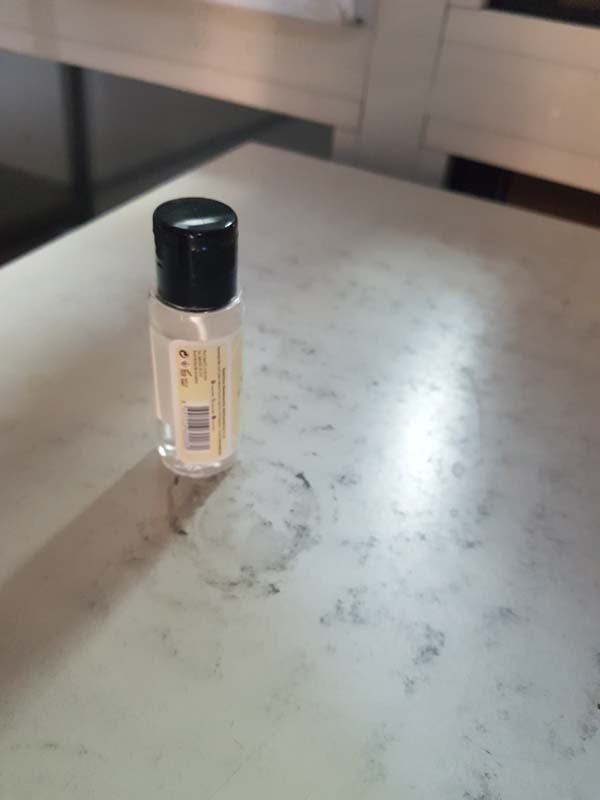redbulkolonya: (147, 195, 247, 481)
